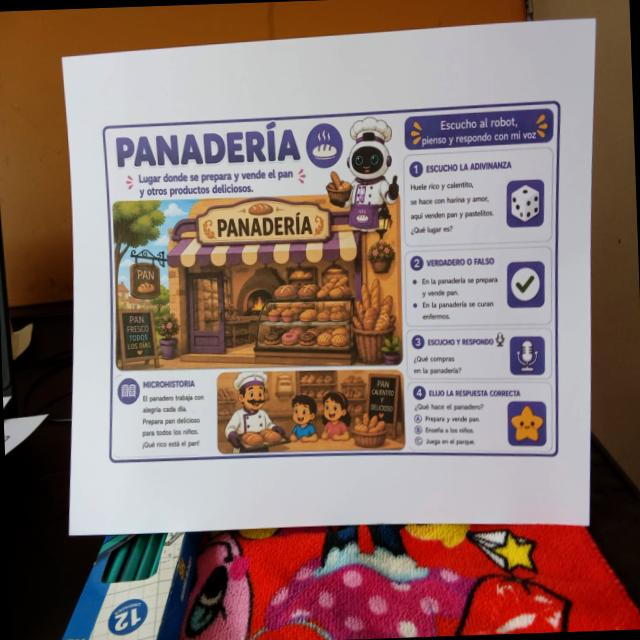panaderia: (94, 92, 576, 478)
